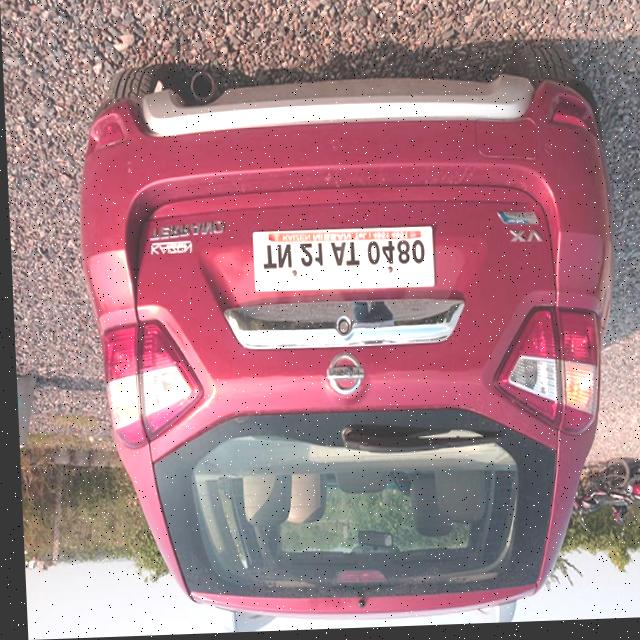plate: (248, 227, 434, 298)
